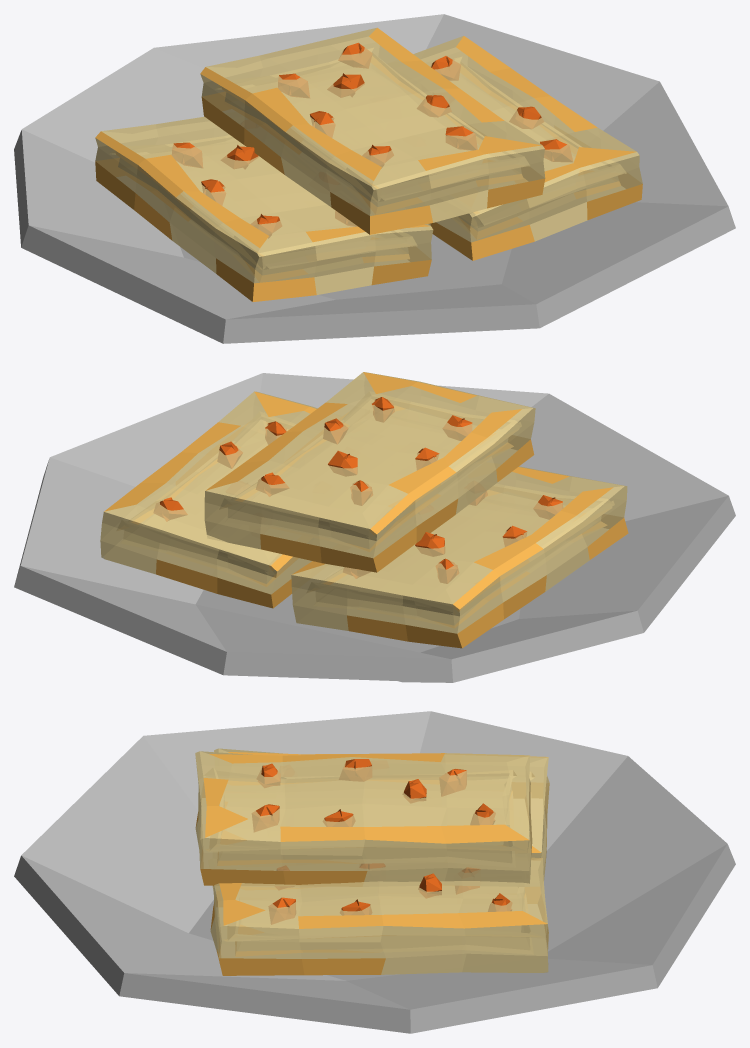
The model's file is Turnip_Cake.fbx.
3 views of the same model, one above another, from view 1: azimuth 30°, elevation 25°; view 2: azimuth 150°, elevation 25°; view 3: azimuth 270°, elevation 25° (orthographic). The views are drawn at different scales.
Visible parts, largest first — view 1: Plane.005; view 2: Plane.005; view 3: Plane.005.
Part boxes in pixels (<box>): Plane.005: <box>14,14,735,343</box>; Plane.005: <box>14,372,735,682</box>; Plane.005: <box>14,711,735,1033</box>.
Bounding box in the file's own units: 208 × 49.49 × 208.
